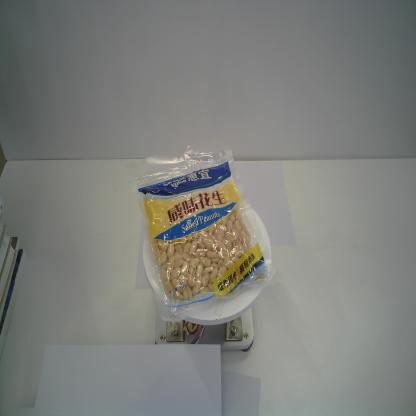Dried Fruit: (126, 136, 278, 324)
